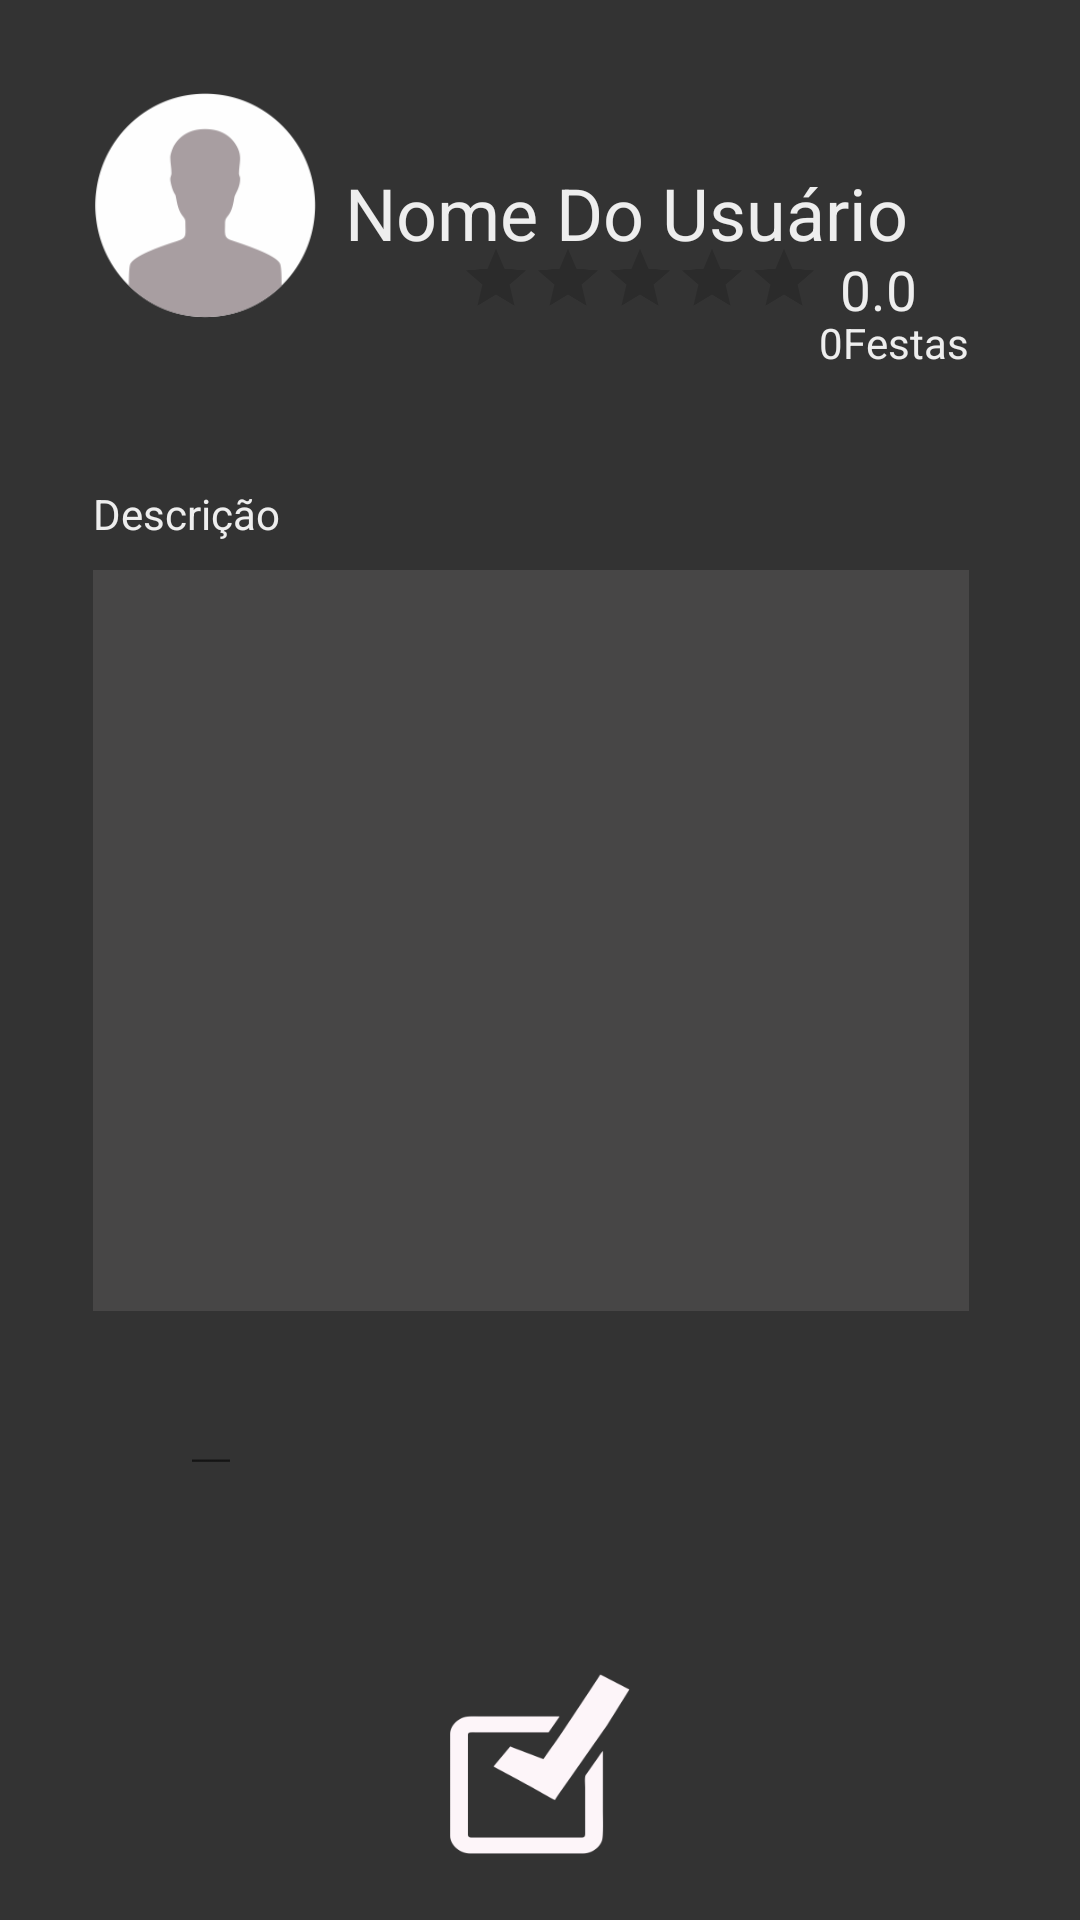

Where icons sit on this 1080 × 1920 app screen, as (x1, y1, x2, y2):
btnconfirmar: (450, 1674, 629, 1854)
foto: (95, 93, 316, 317)
